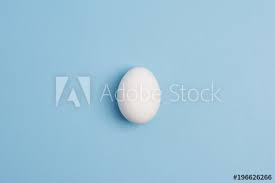egg: (117, 68, 160, 123)
